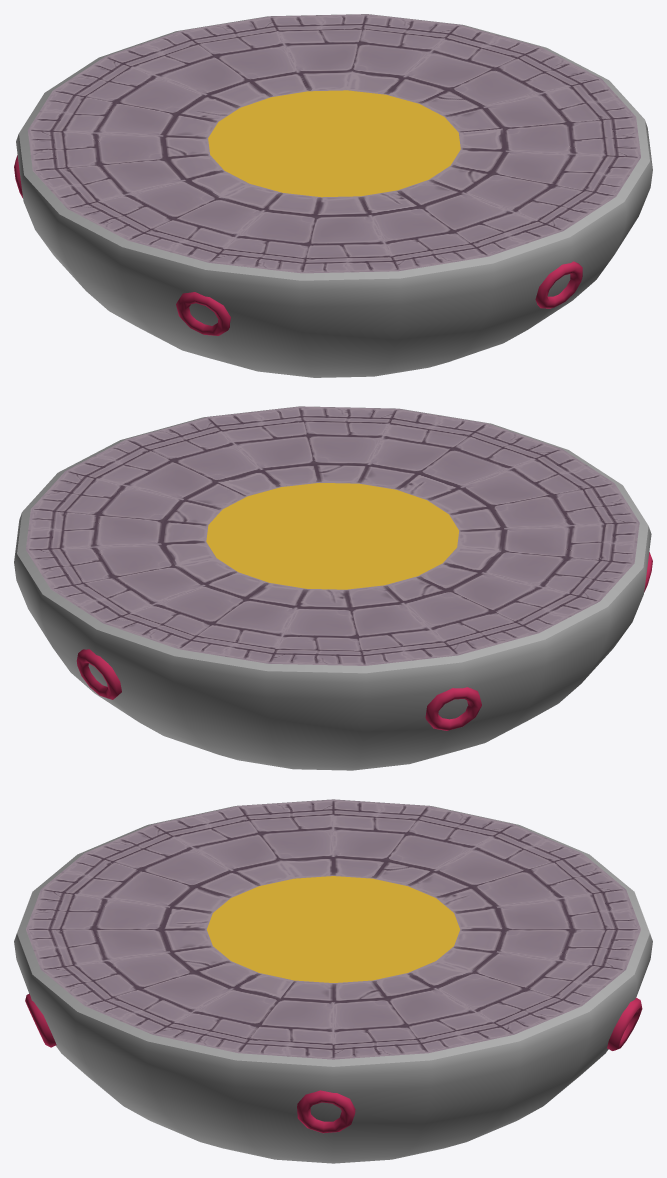
The model's file is M2 Platform6.fbx.
3 renders of one model, top to bottom at view 1: azimuth 30°, elevation 25°; view 2: azimuth 150°, elevation 25°; view 3: azimuth 270°, elevation 25°, orthographic.
Visible parts, largest first — view 1: M2_Platform4; view 2: M2_Platform4; view 3: M2_Platform4.
Boxes of the visible parts, x1,y1,x2,y2 form: M2_Platform4: (14,14,652,377); M2_Platform4: (14,406,652,770); M2_Platform4: (14,799,652,1163).
Size of the model in its own units: 1677 by 551 by 1673.
